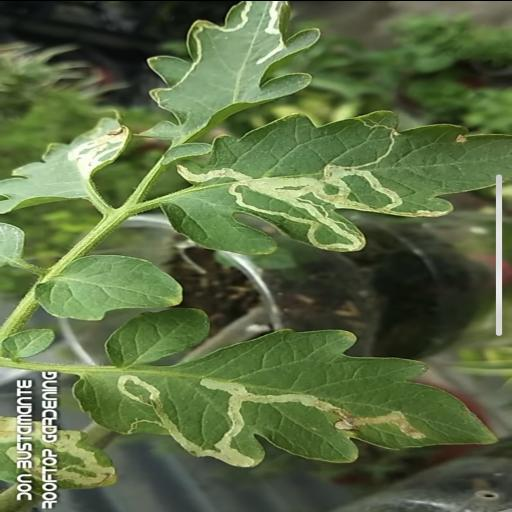Leaf Miner: (72, 328, 494, 464), (162, 108, 512, 252), (144, 0, 322, 117), (0, 117, 128, 212)
